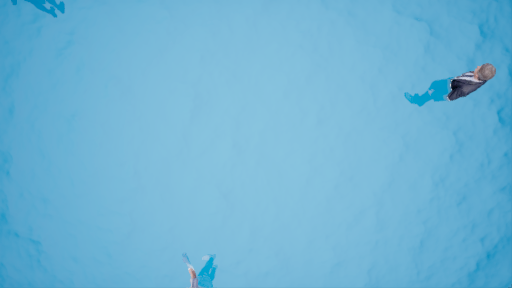person: (413, 61, 499, 116), (182, 245, 226, 288)
